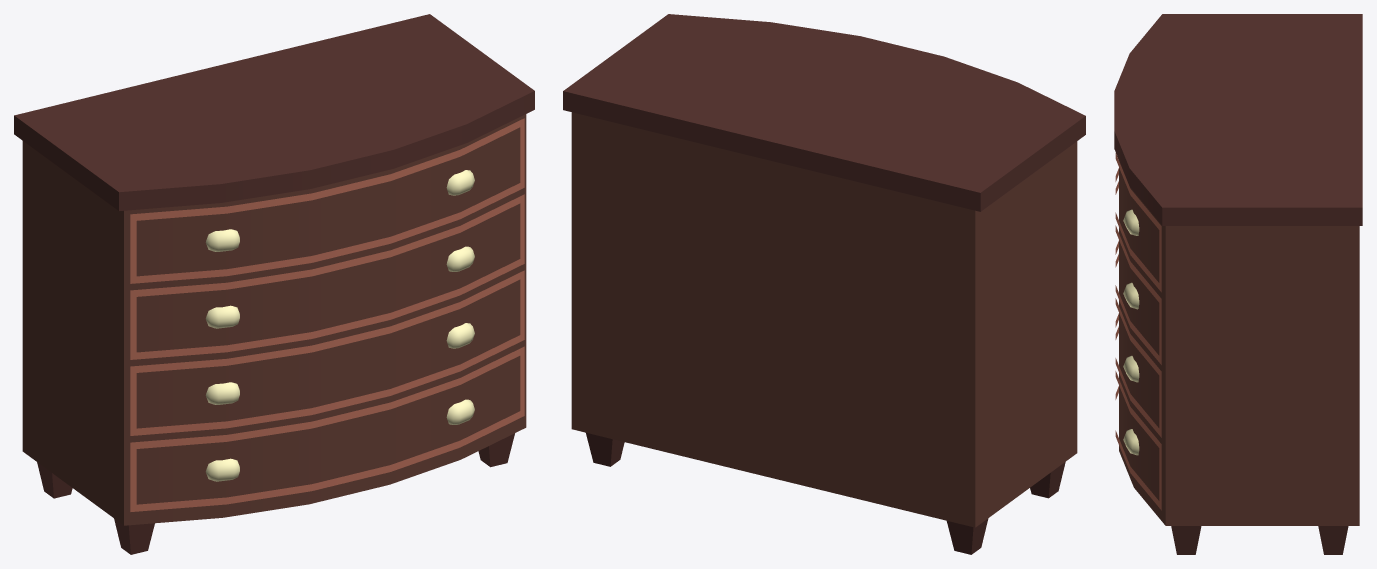
Rendered from SM_dresser_001.FBX.
The picture shows the model from 3 angles, left to right: view 1: azimuth 30°, elevation 25°; view 2: azimuth 150°, elevation 25°; view 3: azimuth 270°, elevation 25°; orthographic projection. The views are drawn at different scales.
Visible parts, largest first — view 1: SM_dresser_001; view 2: SM_dresser_001; view 3: SM_dresser_001.
Boxes of the visible parts, bbox=[...] form: SM_dresser_001: bbox=[14, 14, 534, 554]; SM_dresser_001: bbox=[563, 14, 1085, 554]; SM_dresser_001: bbox=[1114, 14, 1362, 554].
Bounding box in the file's own units: 119 × 64.47 × 102.
